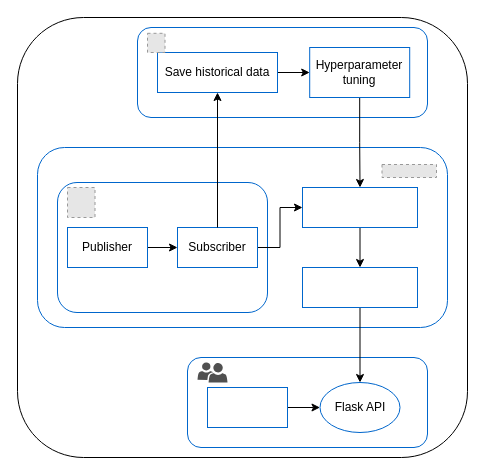
Image size: 485x475. Some labels were removed from this diagram. Grey dashed boxes stand in for pictures. The shapes that lost their labels are listed below. From the top down, each one's centre as x and y in pixels, then its label:
At [360,207]: "Model development".
At [360,287]: "Forecasting".
At [247,407]: "Excel".
